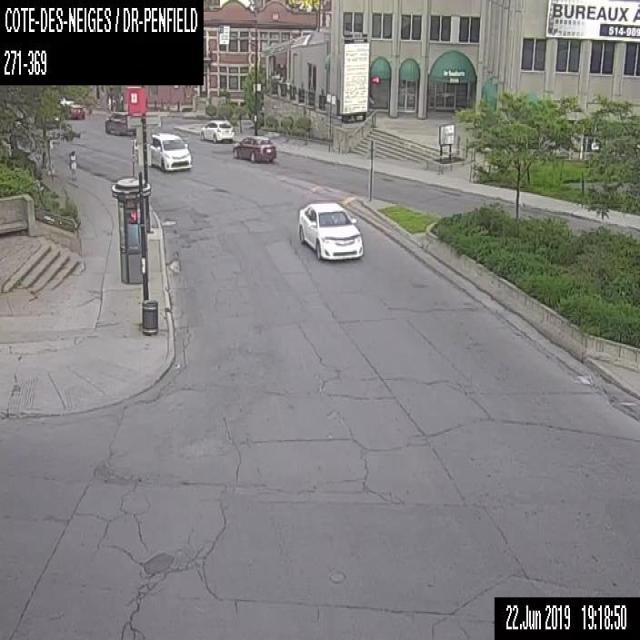pedestrian: (68, 148, 76, 185)
vehicle: (297, 199, 363, 260), (150, 130, 191, 170), (232, 134, 276, 162), (104, 110, 139, 134), (200, 118, 234, 141), (64, 100, 84, 119)
